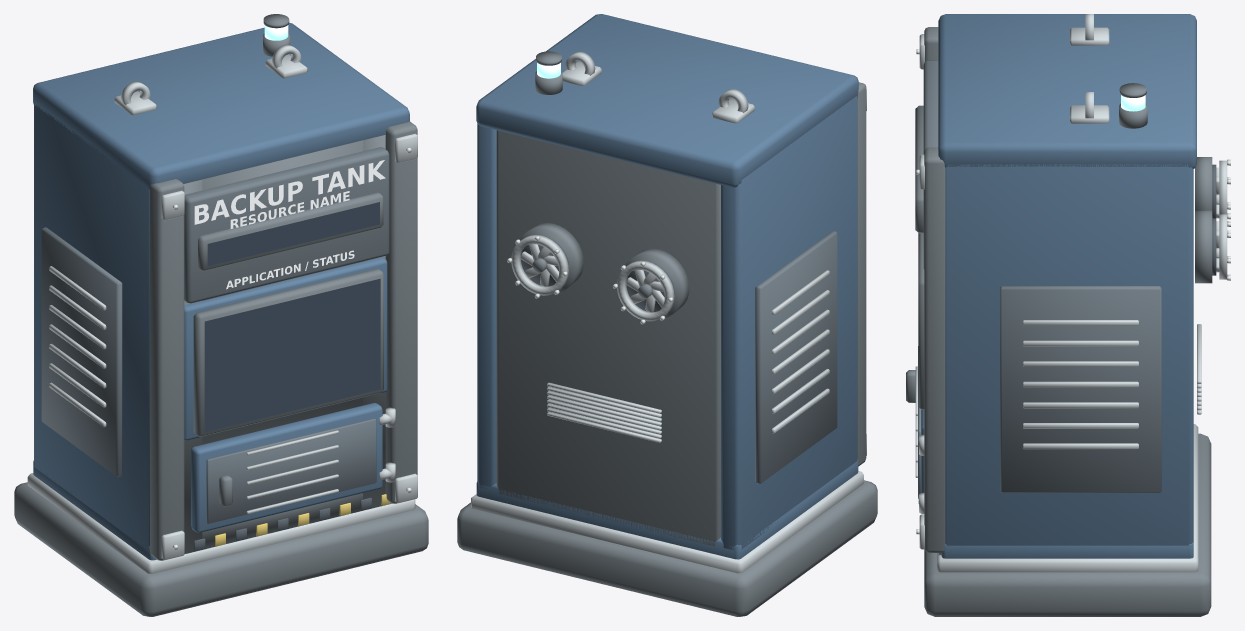
File: backup_tank_enhanced.glb
The picture shows the model from 3 angles, left to right: view 1: azimuth 30°, elevation 25°; view 2: azimuth 150°, elevation 25°; view 3: azimuth 270°, elevation 25°; orthographic projection. The views are drawn at different scales.
Parts seen in each view (by area): view 1: Roof_navy, SideWall_navy, CornerPost_frame, LiveViewSurface_glass, Skid_frame, FrontHeader_graphite, SideServicePanel_graphite, DoorMoving_Inset_graphite, DoorMoving_Panel_navy, SkidDeck_steel, LiveViewSurfaceFrame_frame, ScreenSupport_navy (+16 smaller); view 2: BackWall_frame, SideWall_navy, Roof_navy, Skid_frame, SideServicePanel_graphite, SkidDeck_steel, KickPlate_navy, RearFan_steel, RearVent_steel, CornerPost_frame, RearFan_frame, SideLouver_steel (+3 smaller); view 3: SideWall_navy, Roof_navy, SideServicePanel_graphite, Skid_frame, CornerPost_frame, SideLouver_steel, SkidDeck_steel, KickPlate_navy, RearFan_frame, FrontHeader_graphite, RearFan_steel, LiftMount_steel (+7 smaller).
Boxes of the visible parts, x1=… form: Roof_navy: x1=33, y1=23, x2=409, y2=189; SideWall_navy: x1=34, y1=103, x2=149, y2=550; CornerPost_frame: x1=150, y1=121, x2=417, y2=560; LiveViewSurface_glass: x1=204, y1=278, x2=380, y2=432; Skid_frame: x1=14, y1=482, x2=428, y2=616; FrontHeader_graphite: x1=184, y1=147, x2=389, y2=303; SideServicePanel_graphite: x1=41, y1=227, x2=122, y2=476; DoorMoving_Inset_graphite: x1=206, y1=418, x2=376, y2=523; DoorMoving_Panel_navy: x1=191, y1=403, x2=382, y2=532; SkidDeck_steel: x1=27, y1=473, x2=415, y2=573; LiveViewSurfaceFrame_frame: x1=193, y1=268, x2=383, y2=436; ScreenSupport_navy: x1=184, y1=257, x2=387, y2=440; BackWall_frame: x1=496, y1=130, x2=720, y2=546; SideWall_navy: x1=477, y1=96, x2=857, y2=550; Roof_navy: x1=476, y1=14, x2=858, y2=187; Skid_frame: x1=457, y1=480, x2=877, y2=616; SideServicePanel_graphite: x1=755, y1=231, x2=837, y2=483; SkidDeck_steel: x1=471, y1=471, x2=863, y2=573; KickPlate_navy: x1=476, y1=459, x2=858, y2=559; RearFan_steel: x1=511, y1=235, x2=674, y2=321; RearVent_steel: x1=547, y1=382, x2=661, y2=442; CornerPost_frame: x1=857, y1=82, x2=866, y2=466; RearFan_frame: x1=519, y1=223, x2=689, y2=317; SideLouver_steel: x1=772, y1=270, x2=829, y2=433; SideWall_navy: x1=945, y1=164, x2=1193, y2=545; Roof_navy: x1=938, y1=14, x2=1196, y2=168; SideServicePanel_graphite: x1=1000, y1=286, x2=1161, y2=492; Skid_frame: x1=924, y1=433, x2=1211, y2=616; CornerPost_frame: x1=924, y1=27, x2=945, y2=552; SideLouver_steel: x1=1023, y1=320, x2=1138, y2=449; SkidDeck_steel: x1=937, y1=424, x2=1198, y2=572; KickPlate_navy: x1=941, y1=542, x2=1193, y2=558; RearFan_frame: x1=1195, y1=157, x2=1212, y2=283; FrontHeader_graphite: x1=923, y1=60, x2=938, y2=269; RearFan_steel: x1=1216, y1=160, x2=1227, y2=279; LiftMount_steel: x1=1070, y1=27, x2=1109, y2=123.
Size of the model in its own units: 1.6 by 2.53 by 1.48.
